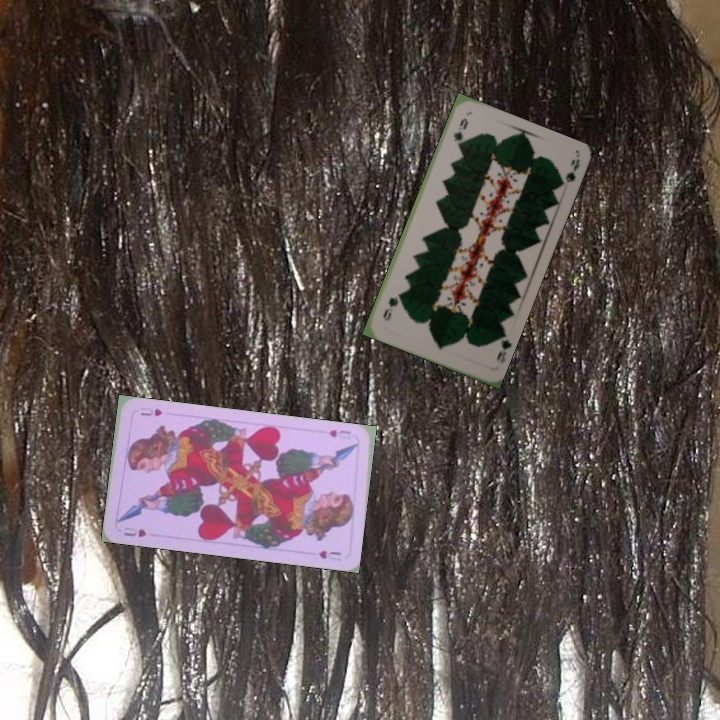G9: (449, 114, 471, 149), (492, 330, 513, 365)
HU: (120, 523, 149, 540), (325, 426, 353, 440)
